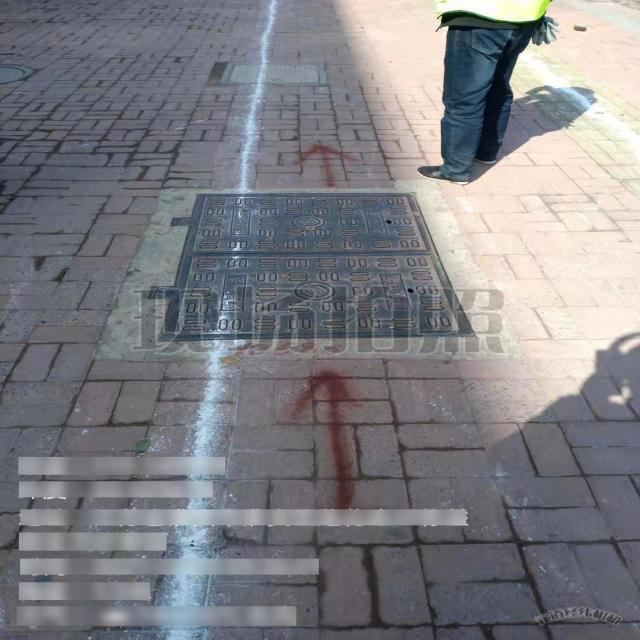Good: (146, 188, 480, 340), (218, 59, 328, 84)
